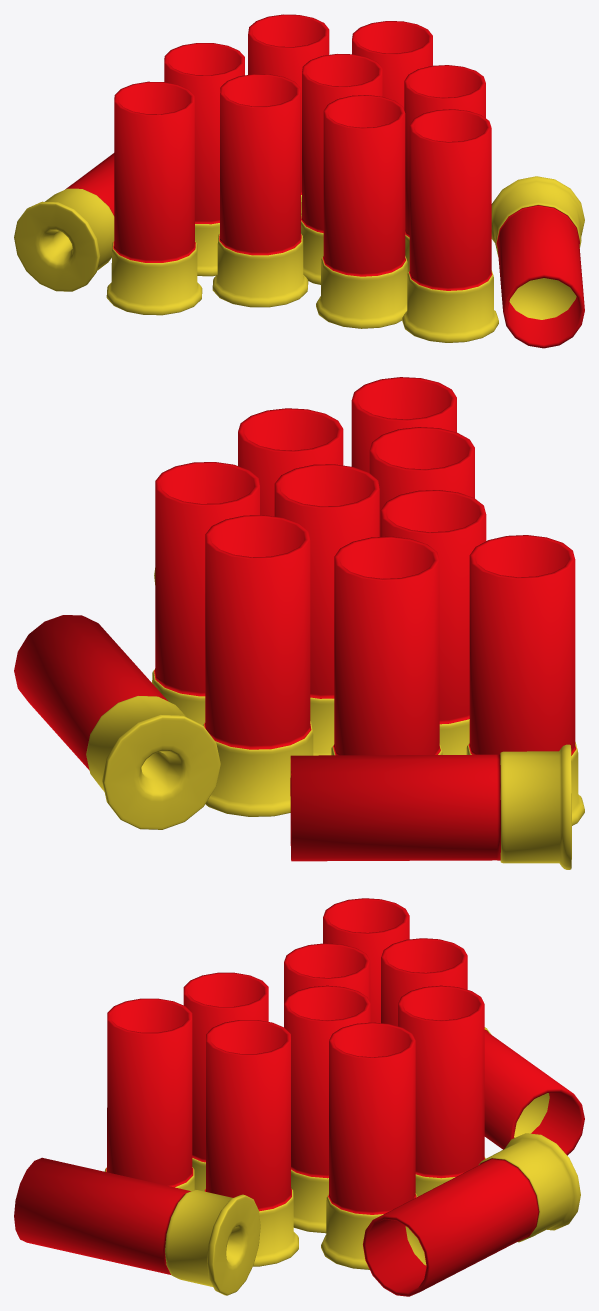
File: ShottyAmmo.fbx
3 renders of one model, top to bottom at view 1: azimuth 30°, elevation 25°; view 2: azimuth 150°, elevation 25°; view 3: azimuth 270°, elevation 25°, orthographic. The views are drawn at different scales.
Visible parts, largest first — view 1: ShotgunAmmo; view 2: ShotgunAmmo; view 3: ShotgunAmmo.
Boxes of the visible parts, left/top/right/bottom form: ShotgunAmmo: left=14, top=14, right=584, bottom=348; ShotgunAmmo: left=14, top=377, right=584, bottom=869; ShotgunAmmo: left=14, top=898, right=584, bottom=1296.
Size of the model in its own units: 16.77 by 17.3 by 7.03.
